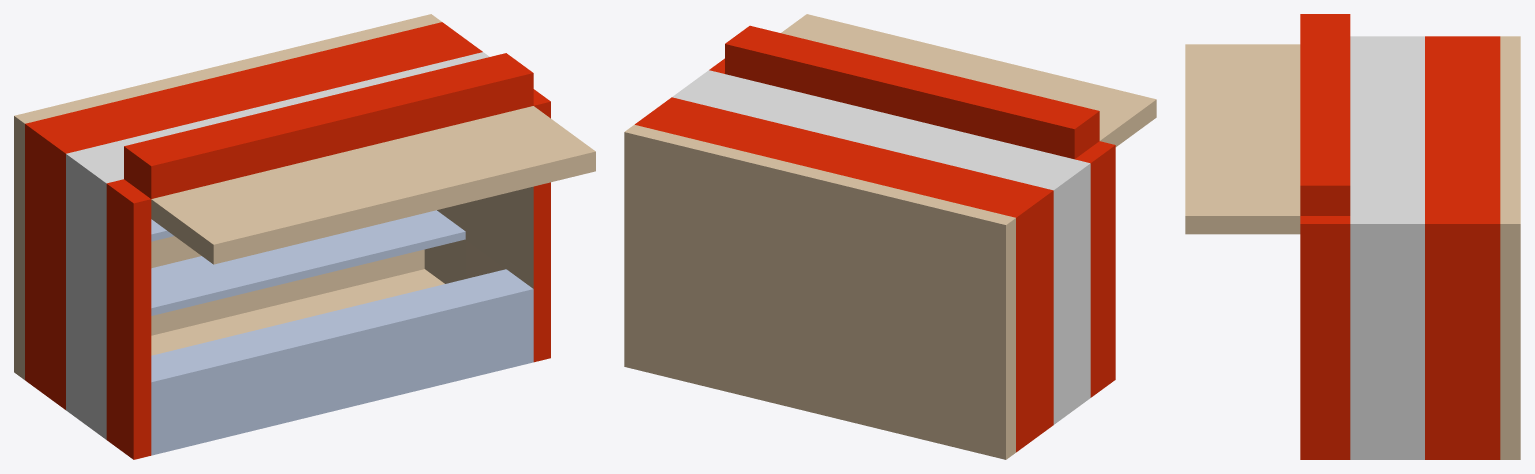
The model's file is carpaJuegos.fbx.
3 renders of one model, left to right at view 1: azimuth 30°, elevation 25°; view 2: azimuth 150°, elevation 25°; view 3: azimuth 270°, elevation 25°, orthographic. The views are drawn at different scales.
Visible parts, largest first — view 1: Cube; view 2: Cube; view 3: Cube.
Part boxes in pixels (x1=…): Cube: x1=14, y1=14, x2=595, y2=459; Cube: x1=624, y1=14, x2=1156, y2=459; Cube: x1=1185, y1=14, x2=1520, y2=459.
Bounding box in the file's own units: 602 × 399 × 455.
